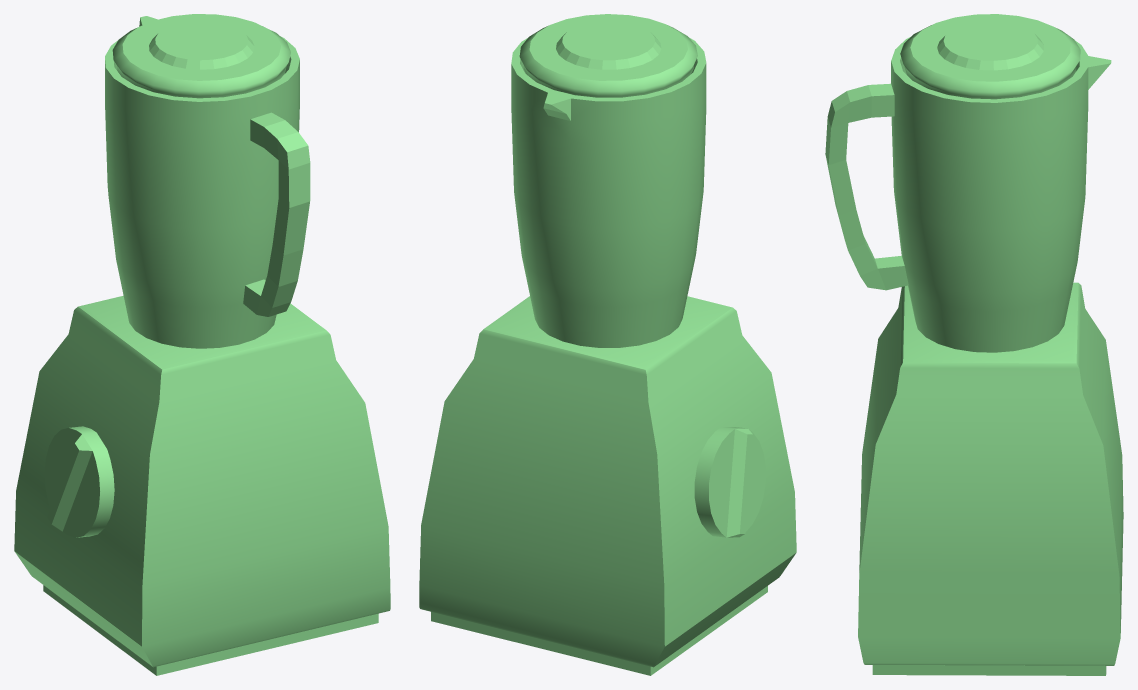
Rendered from Blender.FBX.
3 renders of one model, left to right at view 1: azimuth 30°, elevation 25°; view 2: azimuth 150°, elevation 25°; view 3: azimuth 270°, elevation 25°, orthographic.
Visible parts, largest first — view 1: blender machine, blender mug, mug cap, blender nob; view 2: blender machine, blender mug, mug cap, blender nob; view 3: blender machine, blender mug, mug cap.
Boxes of the visible parts, x1,y1,x2,y2 form: blender machine: [14, 295, 390, 675]; blender mug: [105, 16, 310, 348]; mug cap: [112, 14, 290, 98]; blender nob: [44, 426, 114, 537]; blender machine: [419, 296, 796, 675]; blender mug: [511, 37, 706, 347]; mug cap: [519, 14, 697, 97]; blender nob: [694, 427, 765, 537]; blender machine: [858, 282, 1123, 675]; blender mug: [825, 37, 1111, 352]; mug cap: [900, 14, 1080, 99].
Size of the model in its own units: 0.222 by 0.4443 by 0.2086.
